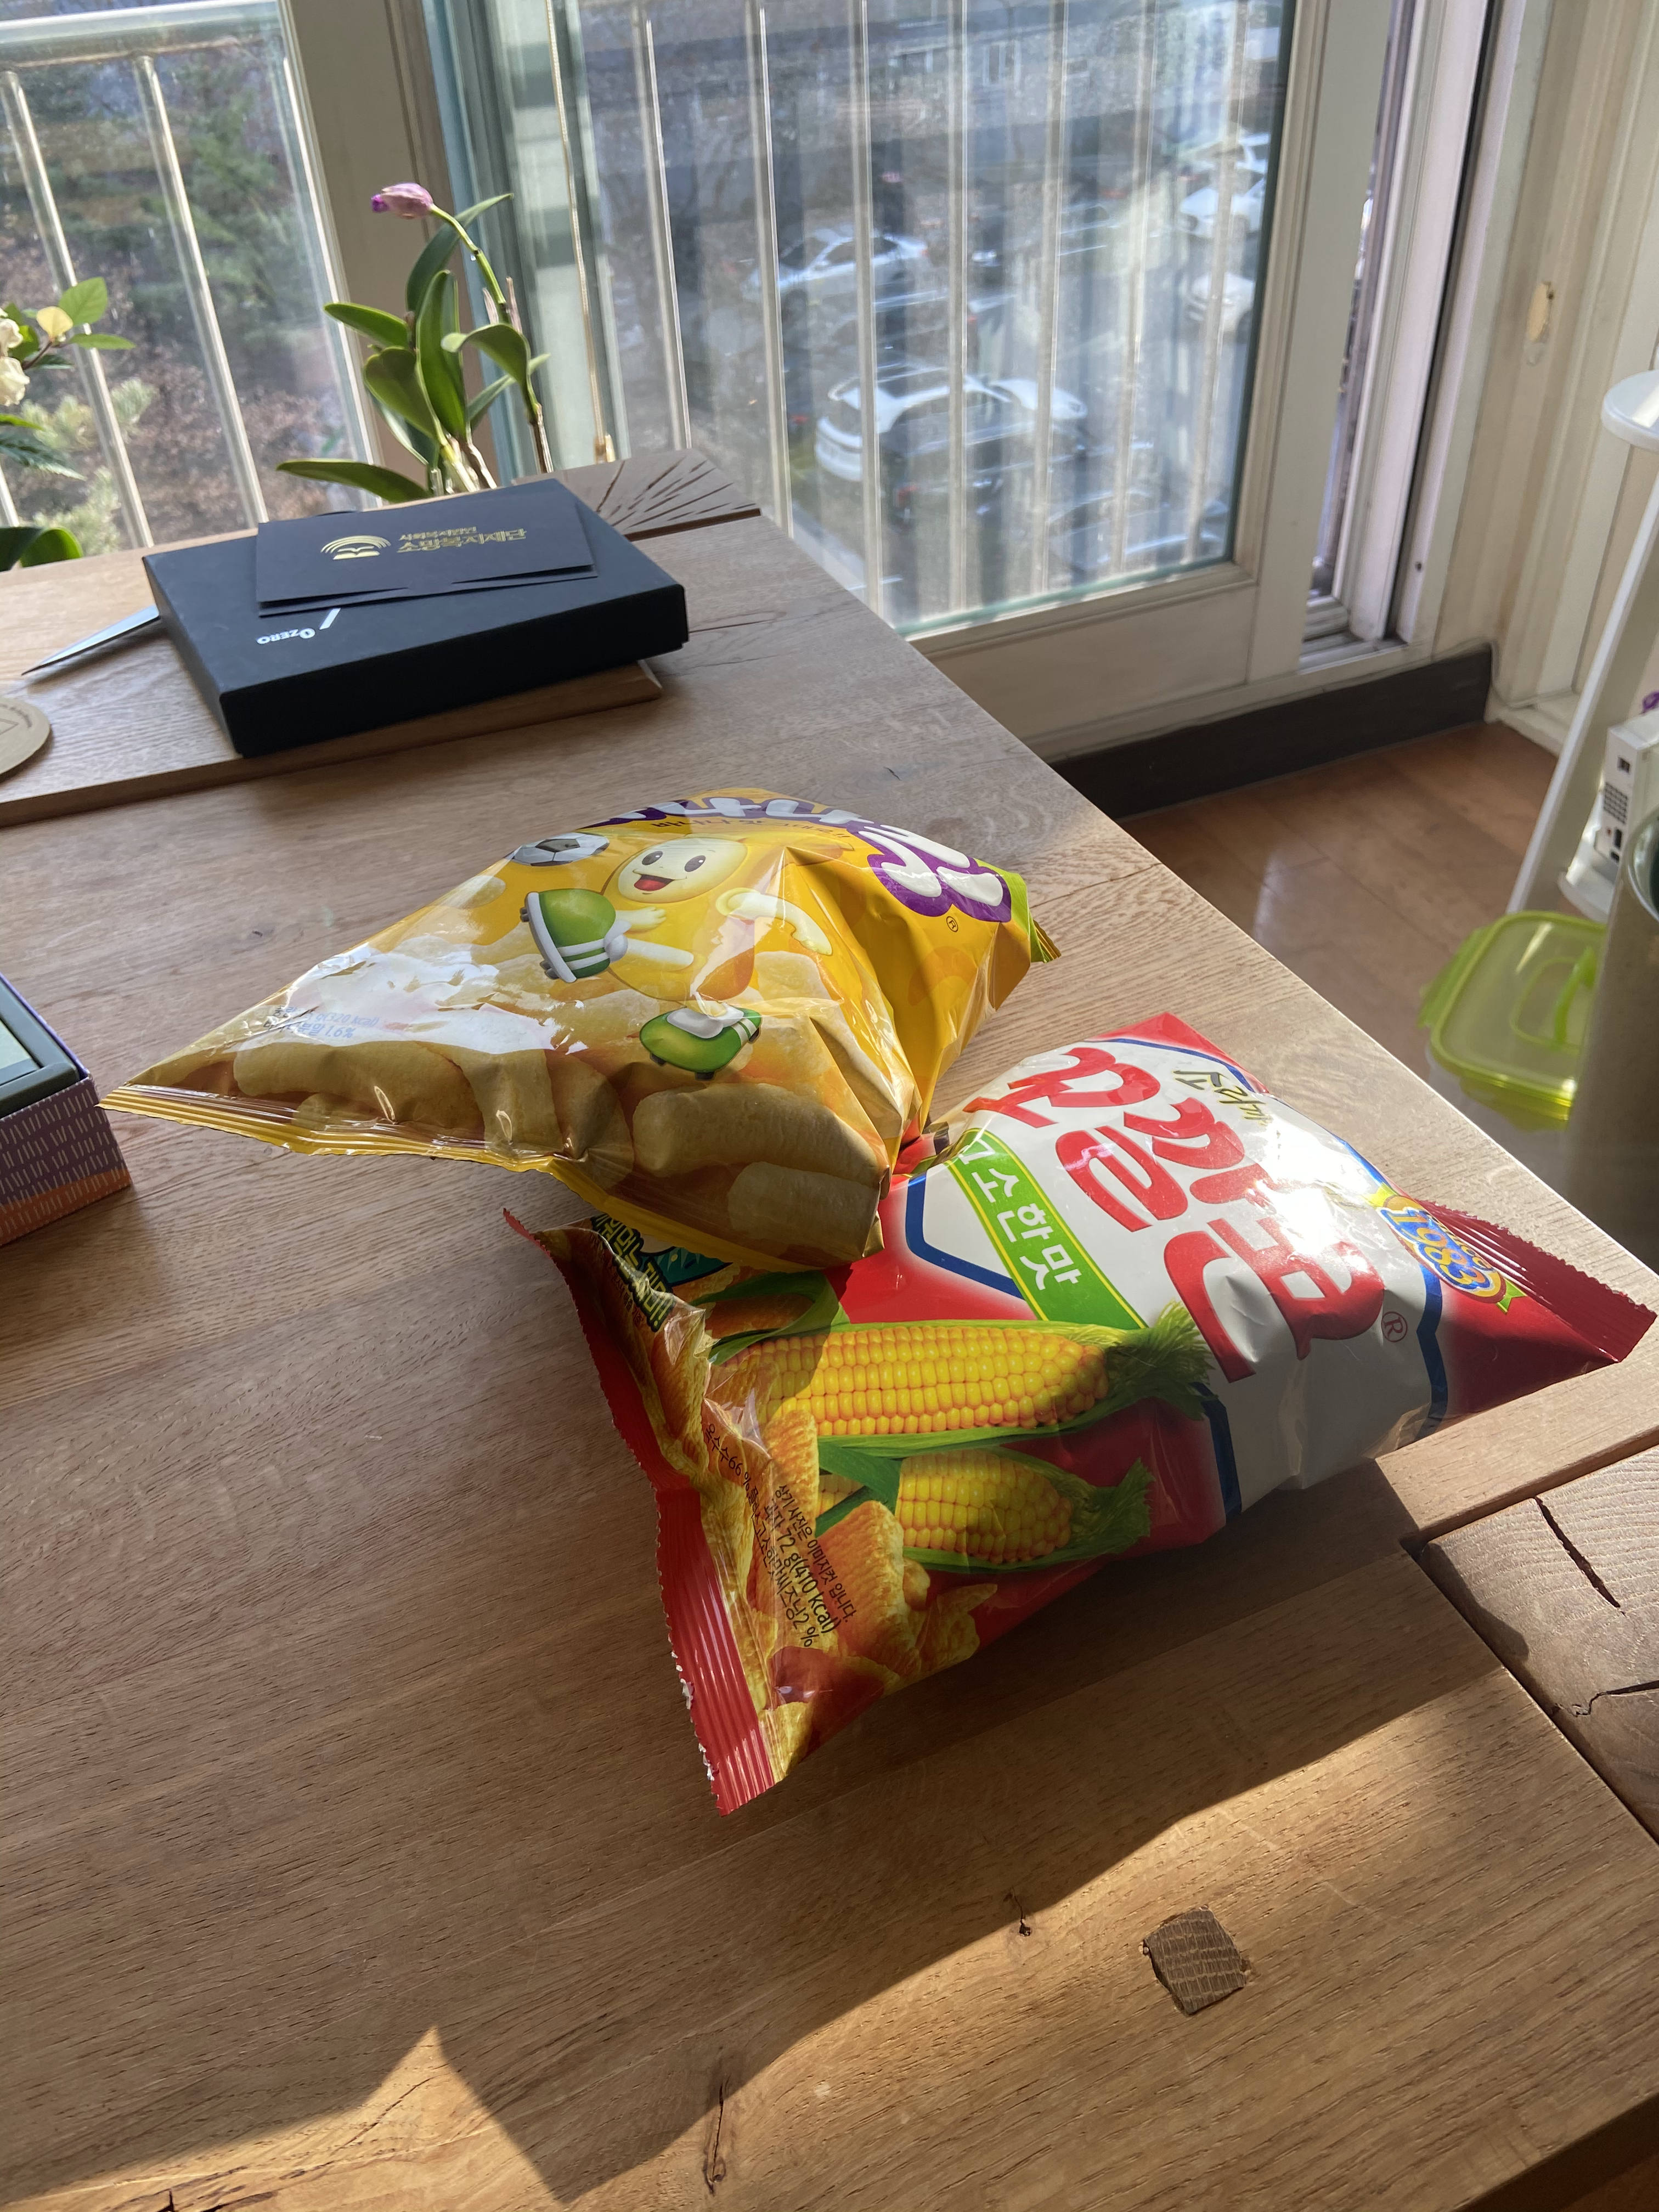banana: (103, 765, 1093, 1313)
ggoggalcon: (464, 984, 1659, 1843)
